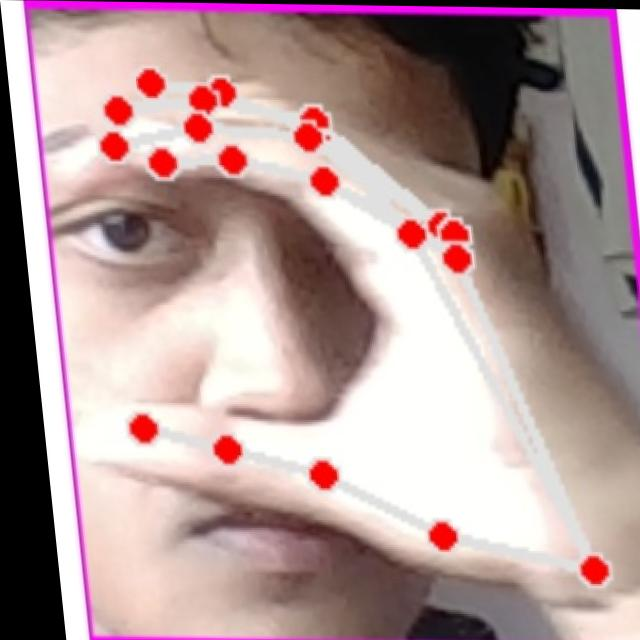C: (55, 57, 640, 623)
